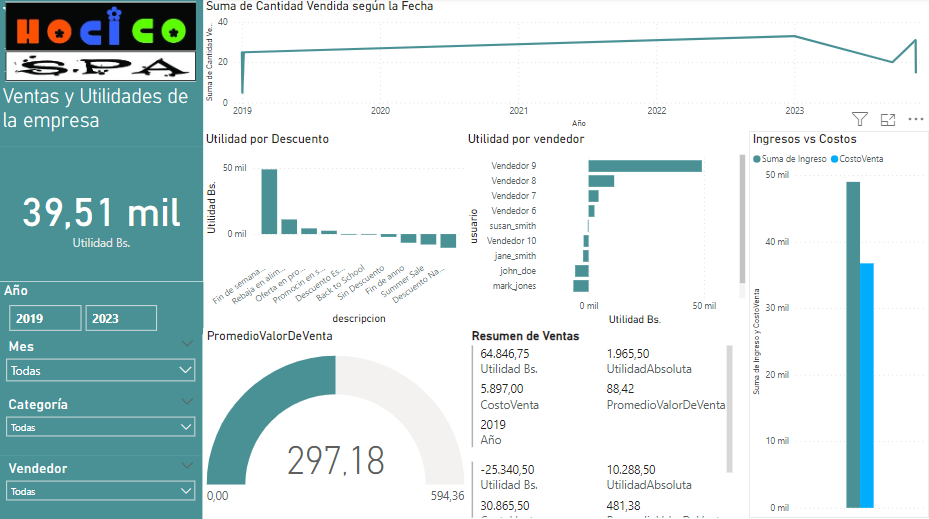

Layout of this report page (visuals, bound fields, positions):
{"tool":"powerbi","page":{"name":"ventas y utilidades","canvas":[1280,720],"ordinal":0},"visuals":[{"type":"clusteredBarChart","title":"Utilidad por vendedor","fields":{"Category":["veterinaria_sis2 d_vendedor.usuario"],"Y":["VeterinariaMedidas.UtilidadRelativa"]},"box":[640,182.7,392,272],"z":0},{"type":"lineChart","title":"Suma de Cantidad Vendida según la Fecha","fields":{"Category":["d_tiempo.fecha.Variación.Jerarquía de fechas.Año","d_tiempo.fecha.Variación.Jerarquía de fechas.Trimestre","d_tiempo.fecha.Variación.Jerarquía de fechas.Mes","d_tiempo.fecha.Variación.Jerarquía de fechas.Día"],"Y":["veterinaria_sis2 f_venta.cant_total"]},"box":[279.4,0,1000.6,183.1],"z":1000},{"type":"clusteredColumnChart","title":"Utilidad por Descuento","fields":{"Y":["VeterinariaMedidas.Utilidad"],"Category":["veterinaria_sis2 d_descuento.descripcion"]},"box":[279.4,183.1,366.1,271.1],"z":2000},{"type":"clusteredColumnChart","title":"Ingresos vs Costos","fields":{"Y":["f_venta.Ingreso","VeterinariaMedidas.CostoVenta"]},"box":[1032.3,183.1,247.7,532.6],"z":3000},{"type":"card","title":"Utilidad","fields":{"Values":["VeterinariaMedidas.Utilidad"]},"box":[0,205.3,281.3,185.3],"z":4000},{"type":"textbox","box":[0,0,281.2,205],"z":5000},{"type":"slicer","title":"Categoría","fields":{"Values":["veterinaria_sis2 d_categoria.nombre"]},"box":[0,542.7,280,88],"z":6000},{"type":"slicer","title":"Vendedor","fields":{"Values":["veterinaria_sis2 d_vendedor.usuario"]},"box":[0,630.7,280,89.3],"z":7000},{"type":"slicer","fields":{"Values":["veterinaria_sis2 d_tiempo.fecha.Variación.Jerarquía de fechas.Mes"]},"box":[0,462.7,280,80],"z":8000},{"type":"slicer","title":"Año","fields":{"Values":["veterinaria_sis2 d_tiempo.fecha.Variación.Jerarquía de fechas.Año"]},"box":[1.3,390.7,280,72],"z":9000},{"type":"gauge","fields":{"Y":["VeterinariaMedidas.PromedioValorDeVenta"]},"box":[280.8,454.2,364.7,265.6],"z":10000},{"type":"multiRowCard","title":"Resumen de Ventas","fields":{"Values":["VeterinariaMedidas.UtilidadRelativa","VeterinariaMedidas.UtilidadAbsoluta","VeterinariaMedidas.CostoVenta","VeterinariaMedidas.PromedioValorDeVenta","d_tiempo.fecha.Variación.Jerarquía de fechas.Año"]},"box":[646,454,369,266],"z":11000},{"type":"image","box":[0,0,279.4,119.7],"z":12000}]}

Visuals, with their boxes in screenshot pixels (x1, y1, x2, y2), scaled from the page's 1280x720 canvas onto the 929x519 screenshot:
"Utilidad por vendedor" clusteredBarChart: left=464, top=132, right=749, bottom=328
"Suma de Cantidad Vendida según la Fecha" lineChart: left=203, top=0, right=928, bottom=132
"Utilidad por Descuento" clusteredColumnChart: left=203, top=132, right=468, bottom=327
"Ingresos vs Costos" clusteredColumnChart: left=749, top=132, right=928, bottom=516
"Utilidad" card: left=0, top=148, right=204, bottom=282
textbox: left=0, top=0, right=204, bottom=148
"Categoría" slicer: left=0, top=391, right=203, bottom=455
"Vendedor" slicer: left=0, top=455, right=203, bottom=518
slicer - veterinaria_sis2 d_tiempo.fecha.Variación.Jerarquía de fechas.Mes: left=0, top=334, right=203, bottom=391
"Año" slicer: left=1, top=282, right=204, bottom=334
gauge - VeterinariaMedidas.PromedioValorDeVenta: left=204, top=327, right=468, bottom=518
"Resumen de Ventas" multiRowCard: left=469, top=327, right=737, bottom=518
image: left=0, top=0, right=203, bottom=86
